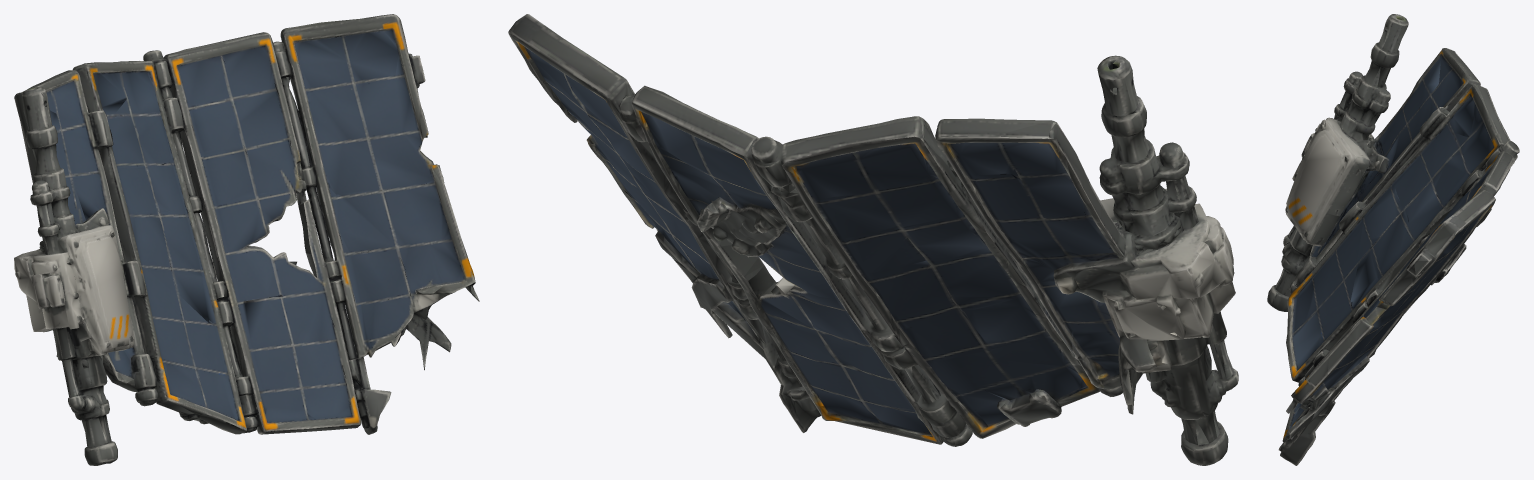
The model's file is 05_solar_panel_wing.fbx.
The picture shows the model from 3 angles, left to right: view 1: azimuth 30°, elevation 25°; view 2: azimuth 150°, elevation 25°; view 3: azimuth 270°, elevation 25°; orthographic projection. The views are drawn at different scales.
Parts seen in each view (by area): view 1: 05_solar_panel_wing; view 2: 05_solar_panel_wing; view 3: 05_solar_panel_wing.
Part boxes in pixels (bbox=[...]): 05_solar_panel_wing: bbox=[14, 14, 479, 465]; 05_solar_panel_wing: bbox=[508, 14, 1238, 465]; 05_solar_panel_wing: bbox=[1267, 14, 1519, 465].
Bounding box in the file's own units: 18 × 14.56 × 10.08.
Materials: 1 (1 with a texture image).
